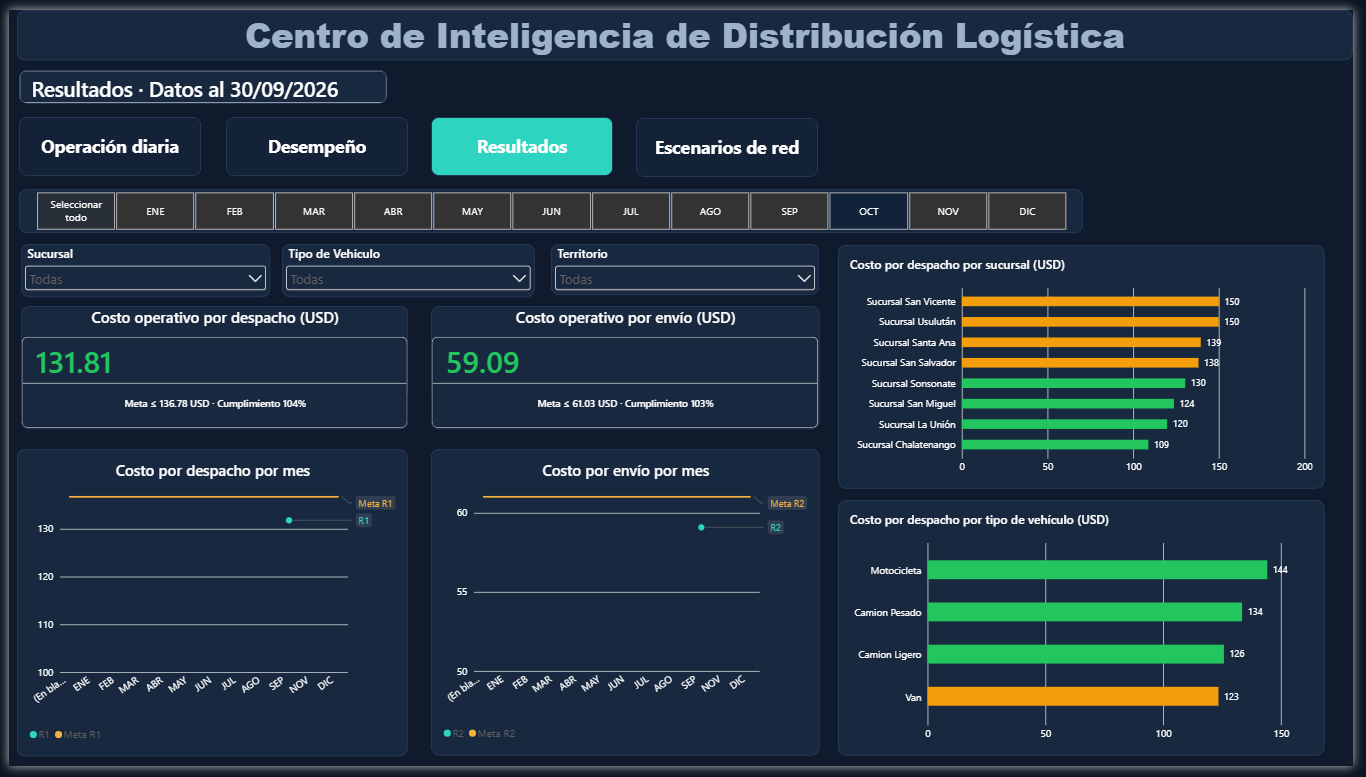

The dashboard page shown, as its layout file describes it:
{"tool":"powerbi","page":{"name":"Resultados","canvas":[1920,1080],"ordinal":2},"visuals":[{"type":"actionButton","box":[14.9,152.7,260,84.3],"z":0},{"type":"actionButton","box":[309.4,152.7,260,84.3],"z":1000},{"type":"actionButton","box":[602.7,152.7,260,84.3],"z":2000},{"type":"actionButton","box":[896,153.8,260,84.3],"z":3000},{"type":"textbox","box":[12,0,1908,72],"z":4000},{"type":"slicer","fields":{"Values":["dw_dim_sucursal.nombre"]},"box":[16.7,334.8,356.1,75.8],"z":5000},{"type":"slicer","fields":{"Values":["dw_dim_vehiculo.tipo"]},"box":[389.4,334.8,360.6,75.8],"z":6000},{"type":"slicer","fields":{"Values":["dw_dim_territorio.nombre_territorio"]},"box":[774.2,334.8,383.3,72.7],"z":7000},{"type":"cardVisual","fields":{"Data":["Medidas 2.Subtitulo Resultados"]},"box":[14,86,526,48],"z":8000},{"type":"slicer","fields":{"Values":["Meses.Nombre"]},"box":[14,256,1520.2,62.5],"z":9000},{"type":"cardVisual","title":"Costo operativo por despacho (USD)","fields":{"Data":["Medidas 2.R1"]},"box":[16.7,422.7,553,175.8],"z":10000},{"type":"cardVisual","title":"Costo operativo por envío (USD)","fields":{"Data":["Medidas 2.R2"]},"box":[603,422.7,554.5,175.8],"z":11000},{"type":"lineChart","title":"Costo por despacho por mes","fields":{"Category":["Meses.Nombre"],"Y":["Medidas 2.R1","Medidas 2.Meta R1"]},"box":[12.1,627.3,557.6,439.4],"z":12000},{"type":"lineChart","title":"Costo por envío por mes","fields":{"Category":["Meses.Nombre"],"Y":["Medidas 2.R2","Medidas 2.Meta R2"]},"box":[603,627.3,554.5,437.9],"z":13000},{"type":"clusteredBarChart","title":"Costo por despacho por sucursal (USD)","fields":{"Category":["dw_dim_sucursal.nombre"],"Y":["Medidas 2.R1"]},"box":[1184.8,336.4,695.5,348.5],"z":14000},{"type":"clusteredBarChart","title":"Costo por despacho por tipo de vehículo (USD)","fields":{"Category":["dw_dim_vehiculo.tipo"],"Y":["Medidas 2.R1"]},"box":[1184.8,700,695.5,365.2],"z":15000}]}

Visuals, with their boxes in screenshot pixels (x1, y1, x2, y2), scaled from the page's 1920x1080 canvas onto the 1366x777 screenshot:
actionButton: (x1=11, y1=110, x2=196, y2=171)
actionButton: (x1=220, y1=110, x2=405, y2=171)
actionButton: (x1=429, y1=110, x2=614, y2=171)
actionButton: (x1=637, y1=111, x2=822, y2=171)
textbox: (x1=9, y1=0, x2=1365, y2=52)
slicer - dw_dim_sucursal.nombre: (x1=12, y1=241, x2=265, y2=295)
slicer - dw_dim_vehiculo.tipo: (x1=277, y1=241, x2=534, y2=295)
slicer - dw_dim_territorio.nombre_territorio: (x1=551, y1=241, x2=824, y2=293)
cardVisual - Medidas 2.Subtitulo Resultados: (x1=10, y1=62, x2=384, y2=96)
slicer - Meses.Nombre: (x1=10, y1=184, x2=1092, y2=229)
"Costo operativo por despacho (USD)" cardVisual: (x1=12, y1=304, x2=405, y2=431)
"Costo operativo por envío (USD)" cardVisual: (x1=429, y1=304, x2=824, y2=431)
"Costo por despacho por mes" lineChart: (x1=9, y1=451, x2=405, y2=767)
"Costo por envío por mes" lineChart: (x1=429, y1=451, x2=824, y2=766)
"Costo por despacho por sucursal (USD)" clusteredBarChart: (x1=843, y1=242, x2=1338, y2=493)
"Costo por despacho por tipo de vehículo (USD)" clusteredBarChart: (x1=843, y1=504, x2=1338, y2=766)
